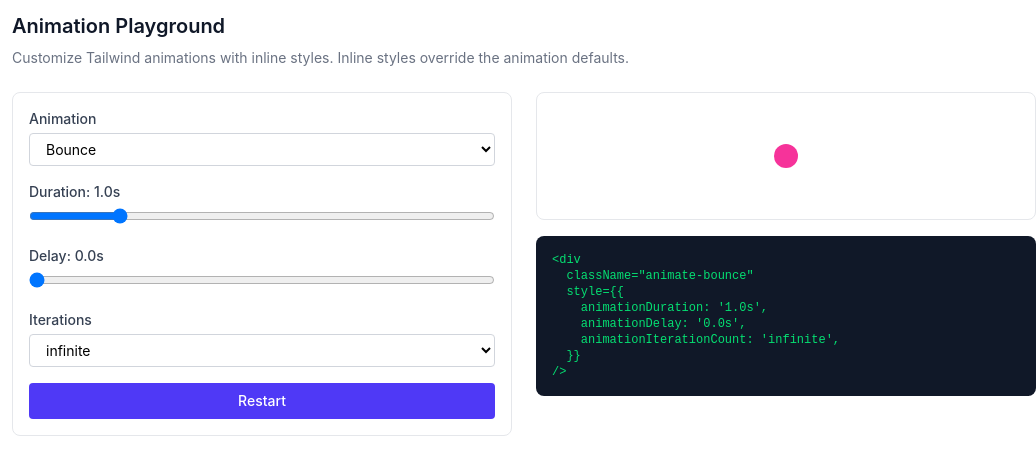
Test: AnimationPlaygroundSection › code snippet updates when duration slider changes
Step 1. Set the slider labelled "Duration: 1.0s" to "2.5" → coordinates (257, 216), box 29,208 -> 495,224
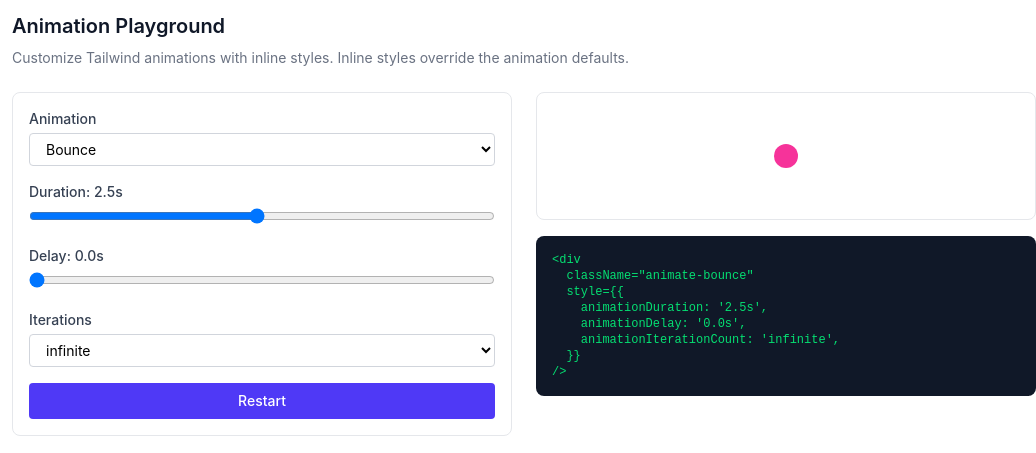
Expected: the text with test id "code-snippet" shows "2.5s", 552,253 -> 840,379
